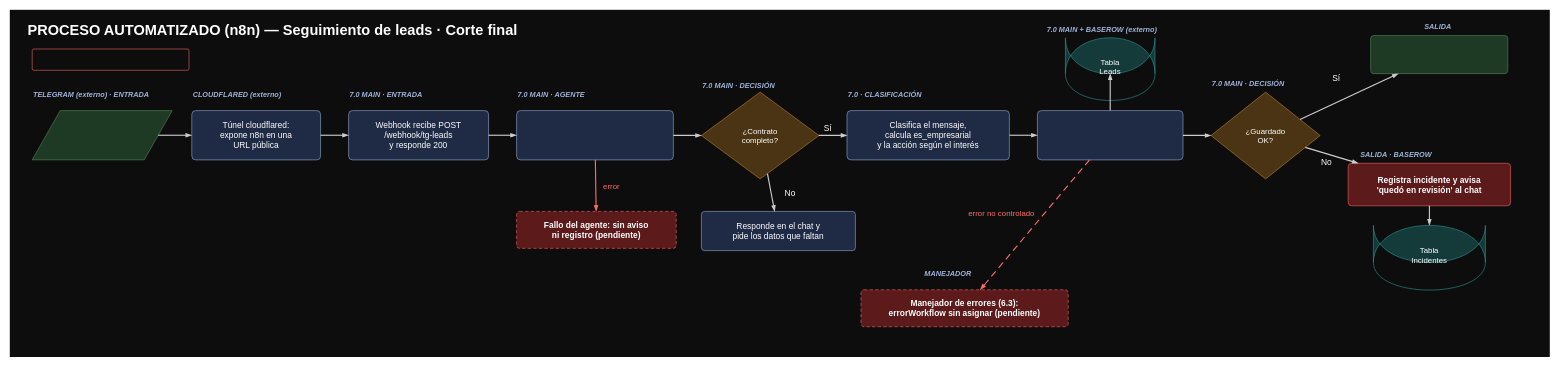
Some shapes in this 1559 by 366 pixel diagram are drawn without their labels. The centre of each missing label's shape, as x and y in pixels:
Agente (Gemini + memoria) recopila nombre, correo, interés y mensaje: the point at 594,135
Confirma el registro al chat: the point at 1439,54
Guarda el lead en Baserow (HTTP POST, 2 reintentos): the point at 1110,135
Rojo = fallo / excepción: the point at 110,59
Usuario escribe en lenguaje natural al bot: the point at 102,135
